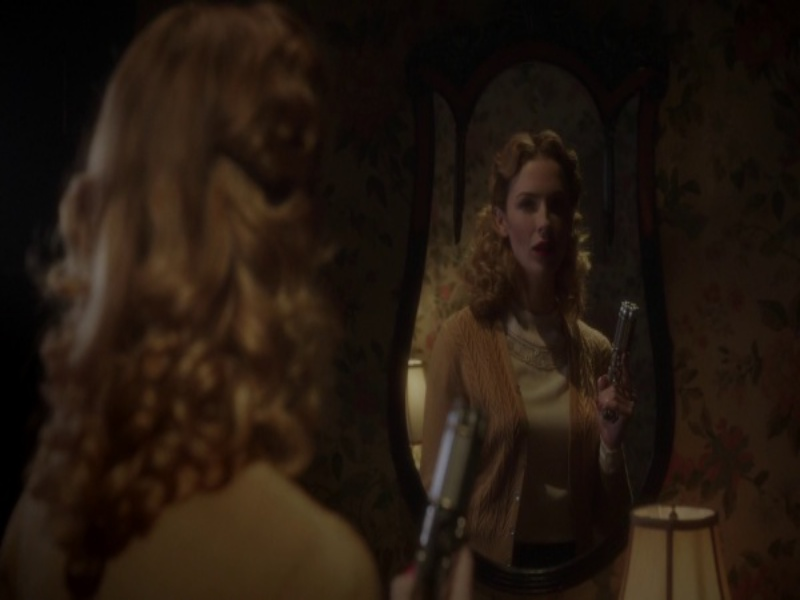person: (22, 7, 387, 593), (435, 128, 639, 566)
weapon: (412, 399, 481, 597), (589, 294, 650, 430)
